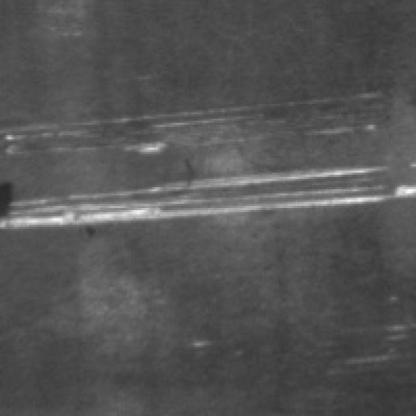scratches: (4, 160, 416, 229), (8, 85, 381, 150)
